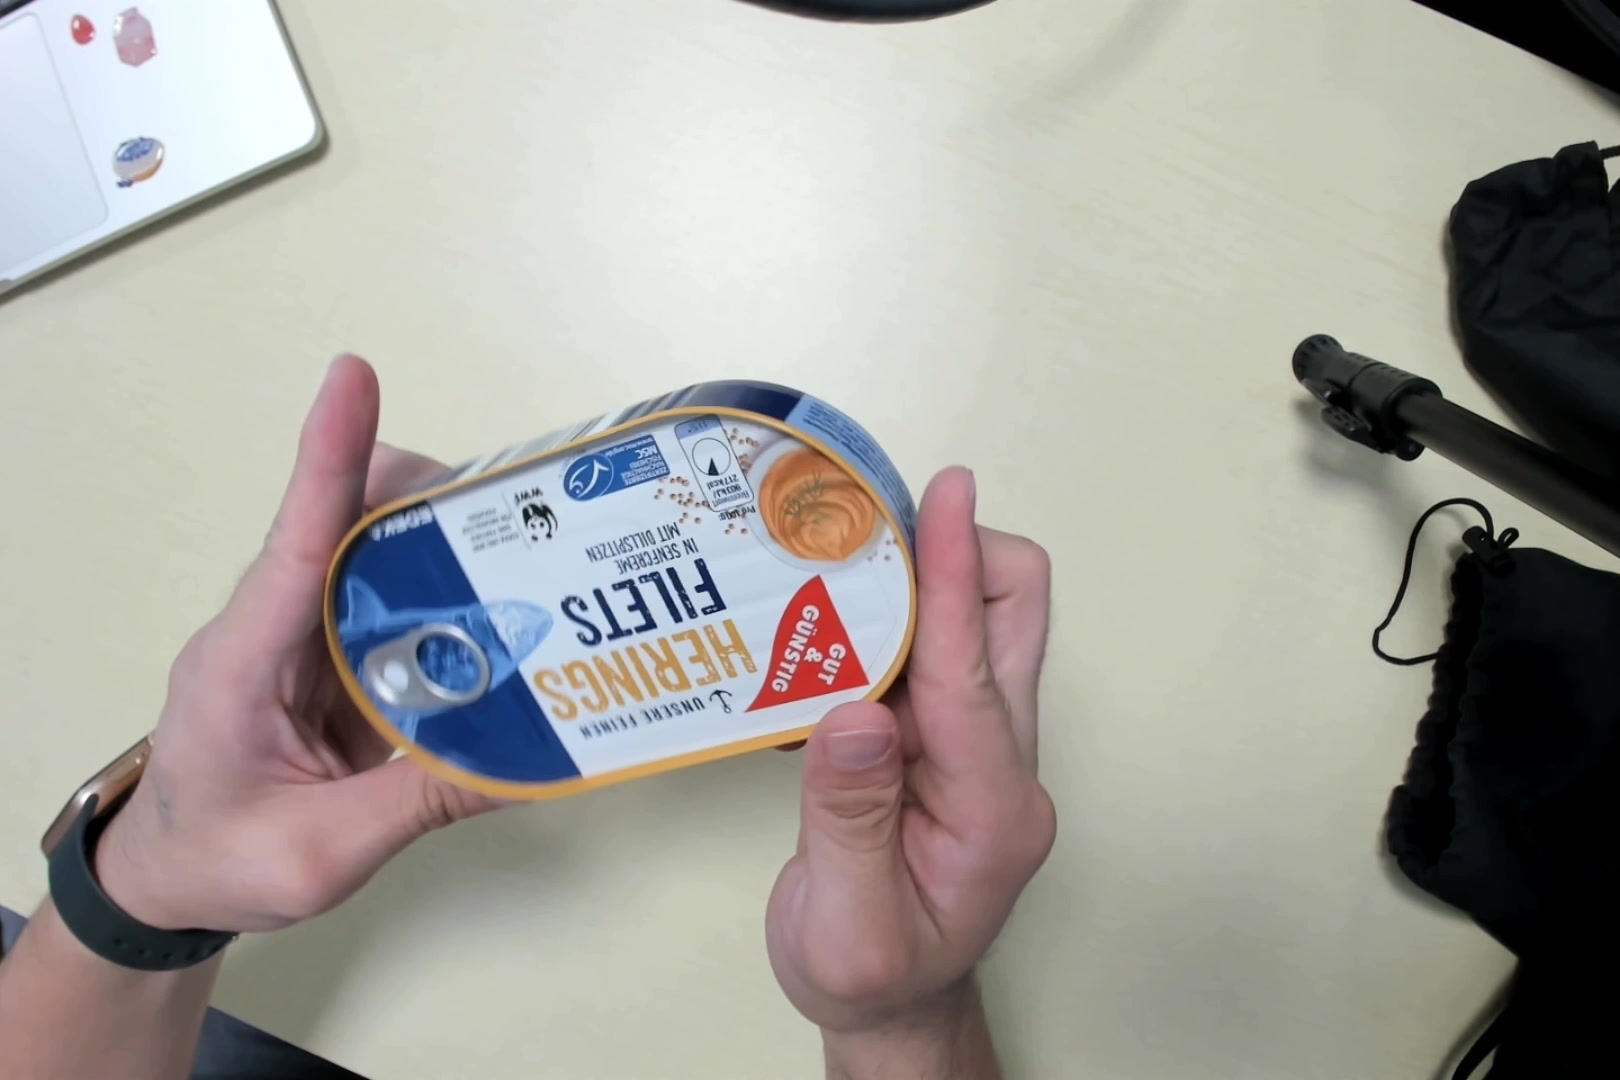OtherCannedSeafood_100-199g_Halal_NonHealthy: (311, 371, 923, 815)
